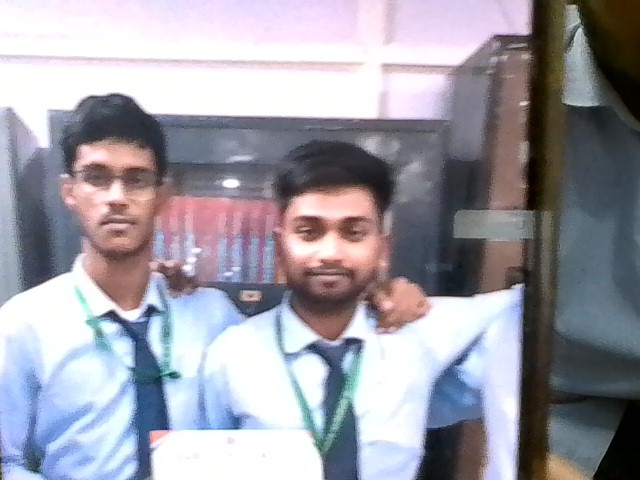real: (55, 105, 169, 266)
